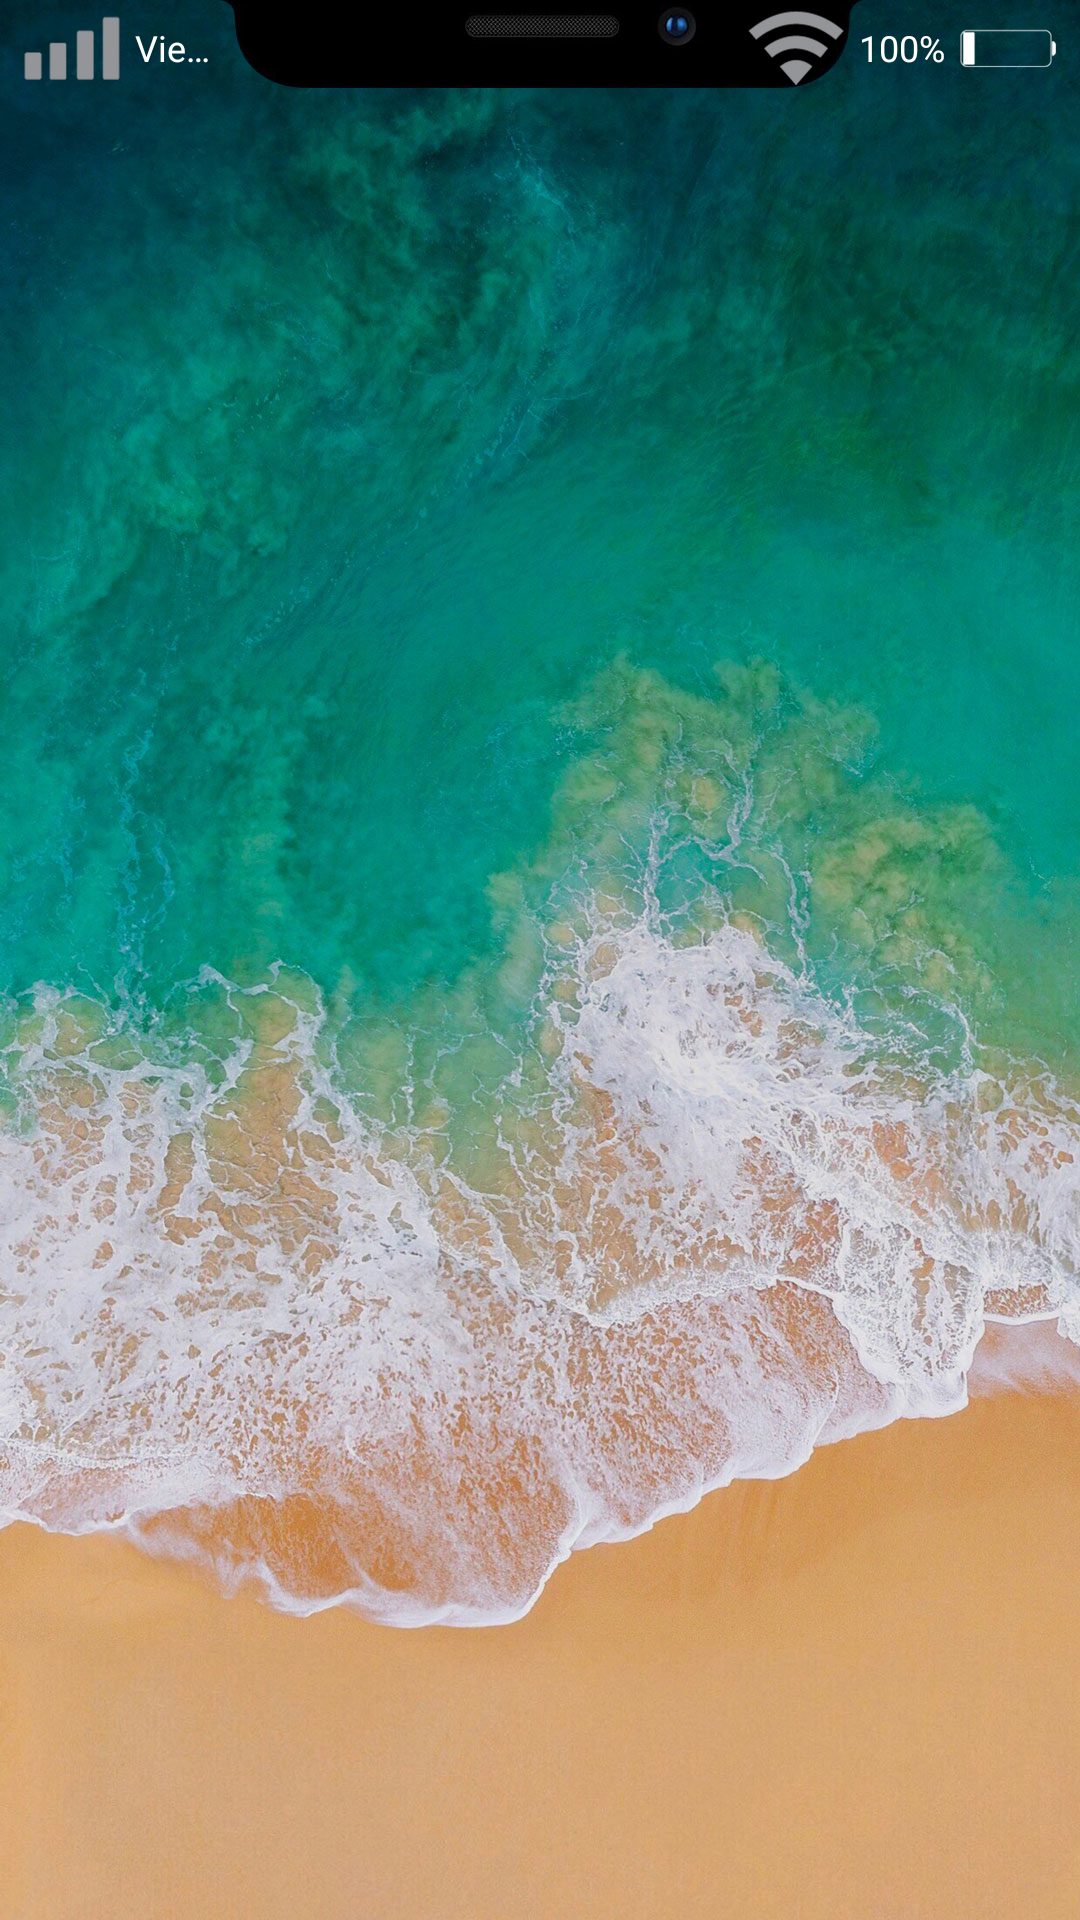

Where to tap for icons on this 1080*1920 app screen, as [x,y]:
battery: [1008,48]
signal cellular bar: [72,48]
